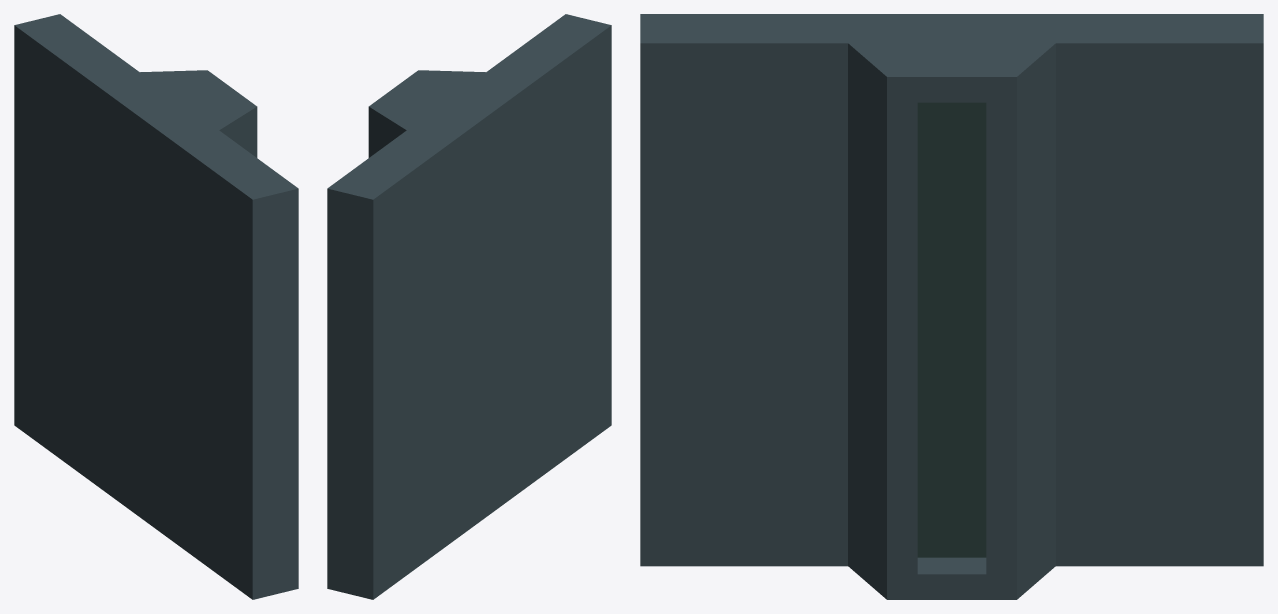
The model's file is Wall_01.fbx.
The picture shows the model from 3 angles, left to right: view 1: azimuth 30°, elevation 25°; view 2: azimuth 150°, elevation 25°; view 3: azimuth 270°, elevation 25°; orthographic projection. The views are drawn at different scales.
Visible parts, largest first — view 1: Wall.001; view 2: Wall.001; view 3: Wall.001.
Boxes of the visible parts, x1,y1,x2,y2 form: Wall.001: (14, 14, 298, 599); Wall.001: (327, 14, 611, 599); Wall.001: (640, 14, 1263, 599).
Size of the model in its own units: 129 by 500 by 540.
